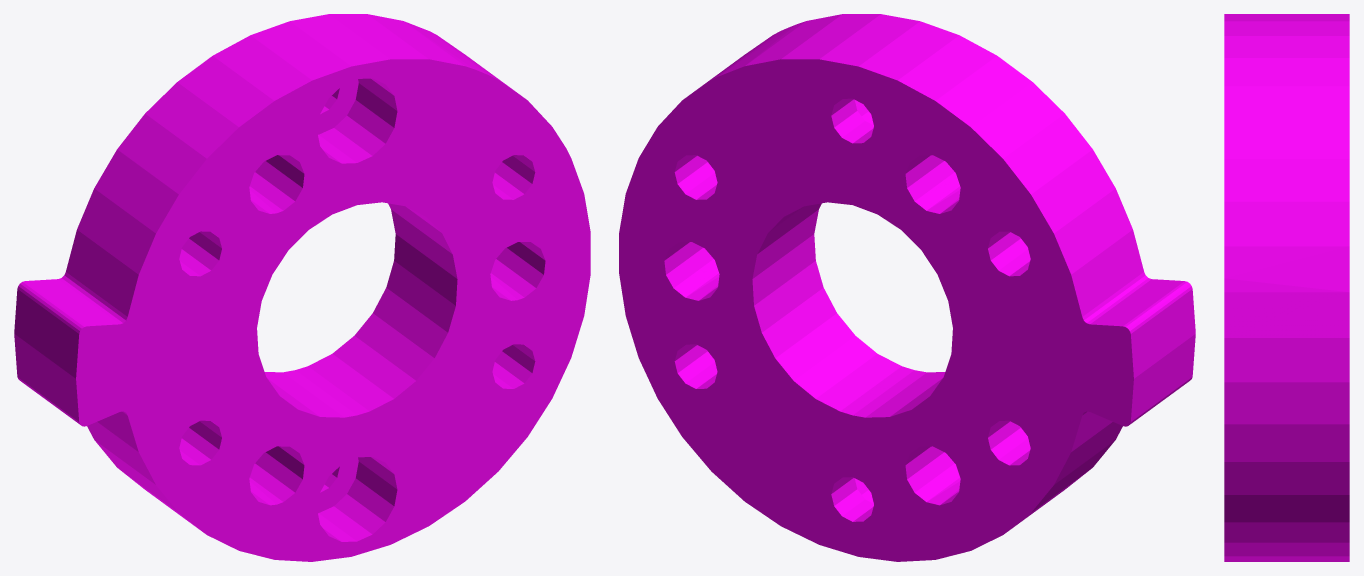
The picture shows the model from 3 angles, left to right: view 1: azimuth 30°, elevation 25°; view 2: azimuth 150°, elevation 25°; view 3: azimuth 270°, elevation 25°; orthographic projection.
Visible parts, largest first — view 1: link_6.STL; view 2: link_6.STL; view 3: link_6.STL.
Boxes of the visible parts, <box> form: link_6.STL: <box>14,14,590,561</box>; link_6.STL: <box>619,14,1195,561</box>; link_6.STL: <box>1224,14,1349,561</box>.
Bounding box in the file's own units: 0.0384 × 0.035 × 0.008.
Materials: 1 (1 with a texture image).
